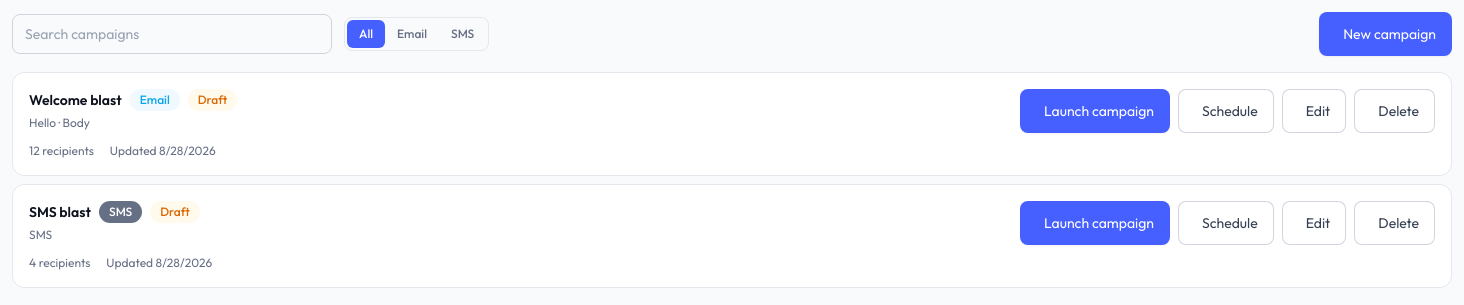
Scenario: CampaignsTab › renders campaign list and channel filter
This screenshot has width=1464, height=305.
Expected: the heading "Welcome blast" is shown, left=29, top=90, right=122, bottom=110
Click the button "SMS".
click(463, 34)  # box left=439, top=20, right=486, bottom=48
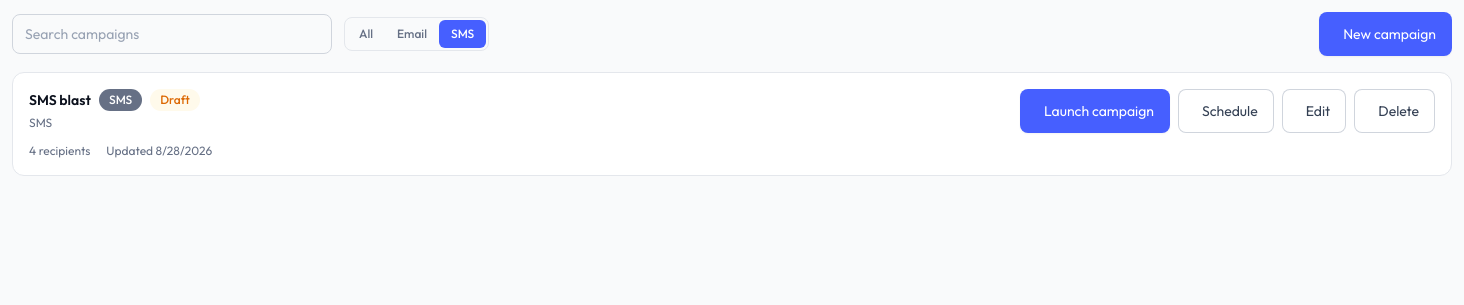
Expected: the heading "SMS blast" is shown, left=29, top=90, right=91, bottom=110
Expected: the heading "Welcome blast" is gone
